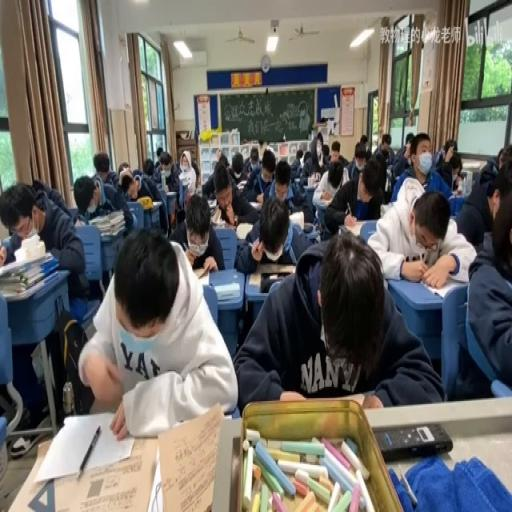calculator: (34, 418, 158, 509), (156, 402, 226, 512), (246, 260, 296, 289), (146, 445, 162, 512), (422, 276, 462, 299), (213, 282, 241, 300), (236, 222, 254, 240), (287, 210, 303, 230), (195, 269, 213, 286), (210, 204, 224, 224), (458, 168, 468, 189), (380, 200, 393, 214), (314, 195, 330, 206), (447, 189, 463, 199), (178, 170, 192, 180), (307, 176, 318, 188), (206, 196, 216, 208), (248, 201, 262, 209), (74, 214, 85, 224), (236, 179, 246, 189), (148, 199, 161, 206), (162, 183, 172, 192), (386, 165, 392, 175), (294, 178, 300, 183)
paper: (232, 232, 438, 412), (78, 224, 236, 436), (0, 181, 85, 438), (367, 176, 477, 288), (234, 191, 311, 273), (326, 154, 383, 234), (170, 192, 226, 273), (84, 155, 137, 235), (33, 179, 77, 222), (242, 145, 270, 201), (152, 151, 181, 196), (299, 139, 326, 185), (388, 134, 410, 189), (438, 151, 464, 196), (493, 164, 512, 219), (350, 136, 372, 176), (226, 148, 247, 183), (330, 139, 348, 171), (479, 158, 499, 186), (288, 147, 302, 179), (92, 178, 106, 206), (119, 174, 134, 196), (328, 168, 342, 190), (375, 146, 388, 168), (190, 159, 199, 189), (94, 155, 108, 174), (142, 158, 154, 176), (496, 145, 506, 166), (434, 146, 444, 165), (118, 161, 130, 176), (258, 140, 267, 160), (217, 152, 228, 168), (322, 145, 330, 165), (405, 131, 414, 145), (382, 136, 391, 150), (302, 150, 310, 164), (250, 154, 258, 165), (358, 132, 366, 142), (156, 145, 162, 158), (450, 138, 457, 149)
person: (374, 422, 451, 461), (302, 220, 314, 232), (338, 224, 350, 234)
